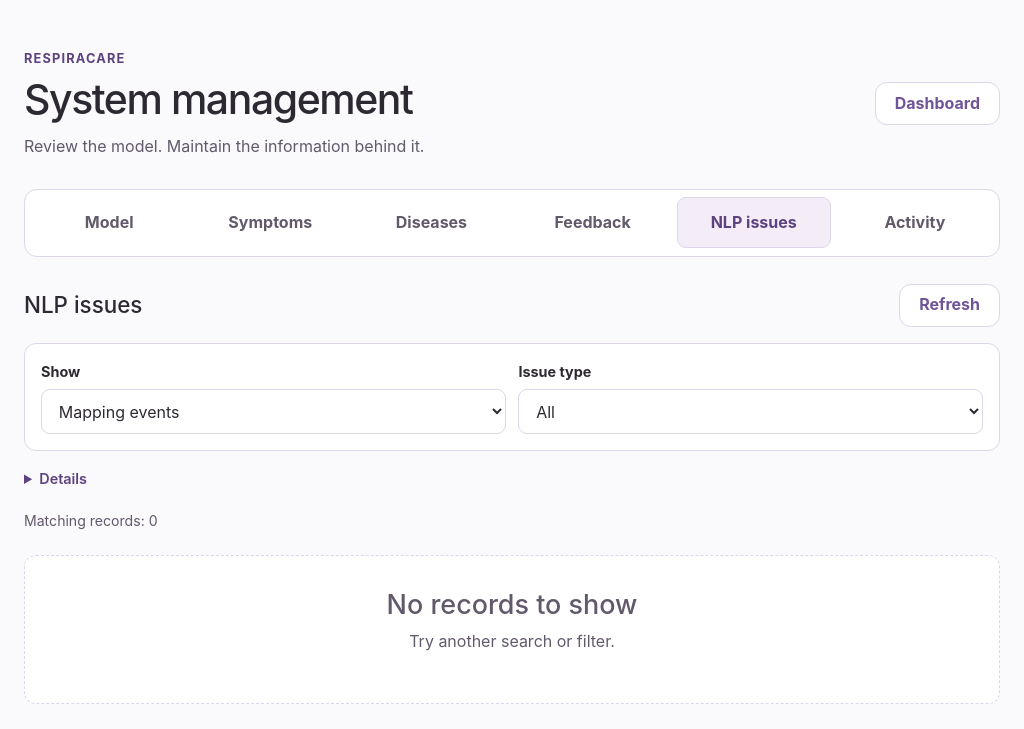
Scenario: administrator system management › switches diagnostic sources and displays saved unsupported wording
The image size is (1024, 729).
Expected: the heading "No records to show" is shown, x1=387 y1=588 x2=637 y2=620
Select "Saved assessments" in the dropdown labelled "Show". click: point(273, 412)
box: x1=41 y1=389 x2=506 y2=434
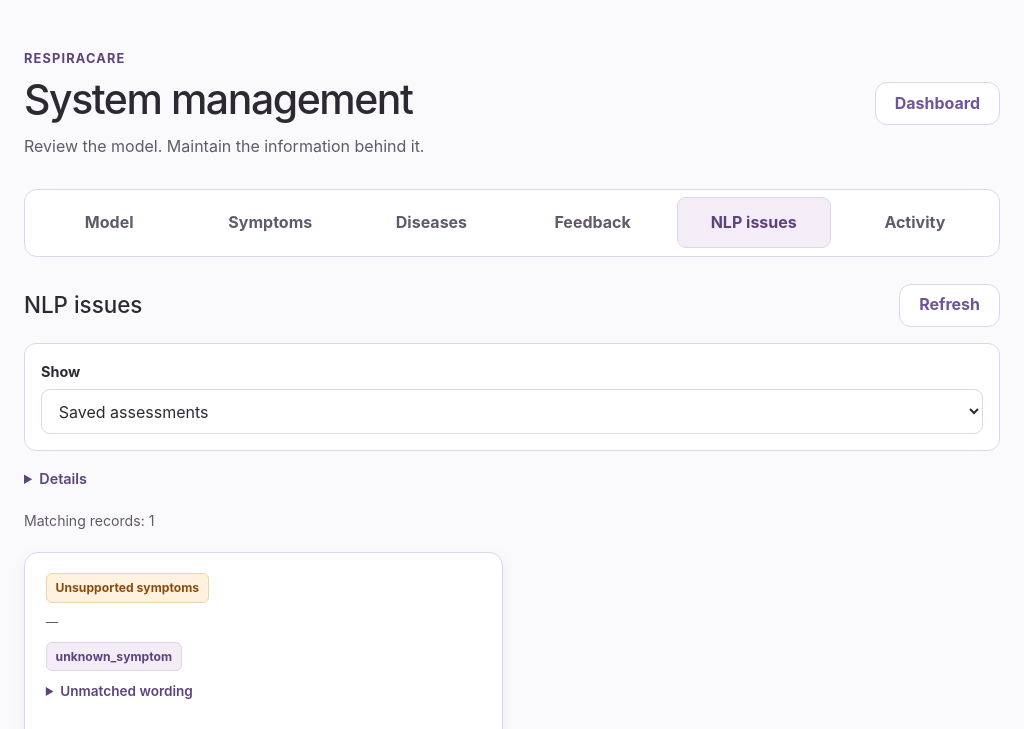
Now the text "unknown_symptom" is shown, box x1=46 y1=642 x2=182 y2=671
